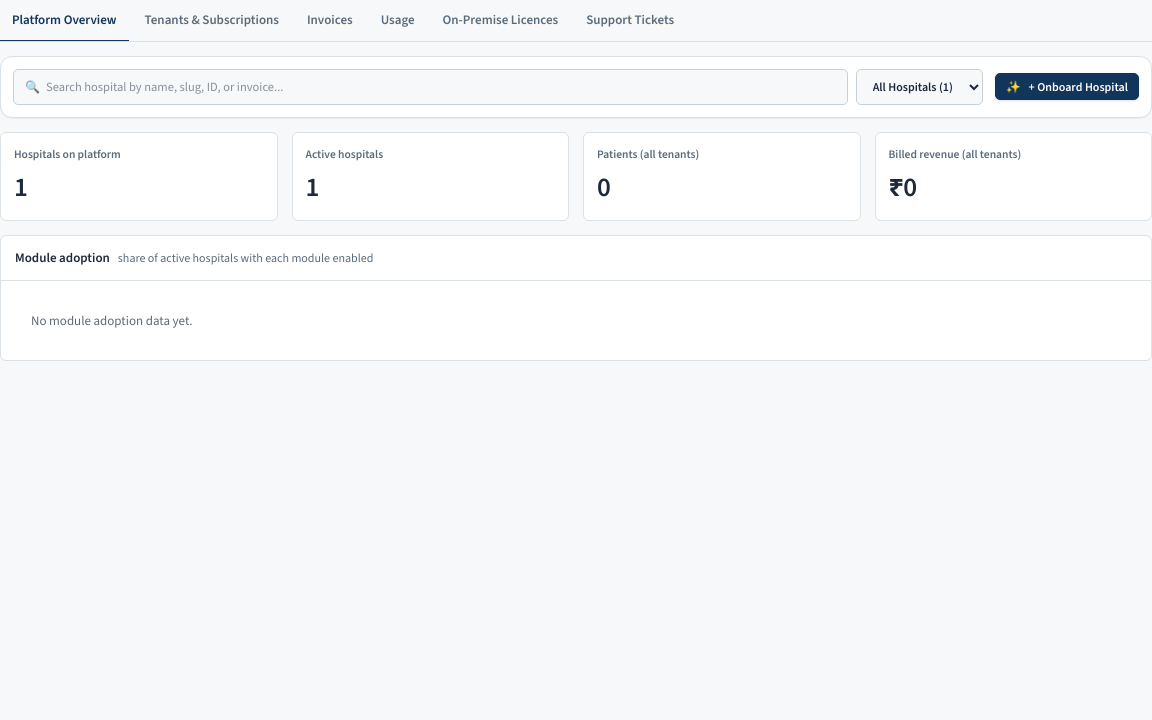
Test: SaaSConsolePage › opens tenant onboarding wizard modal on clicking '+ Onboard Hospital'
Click the button "✨ + Onboard Hospital": (1067, 86) [995,73,1139,100]
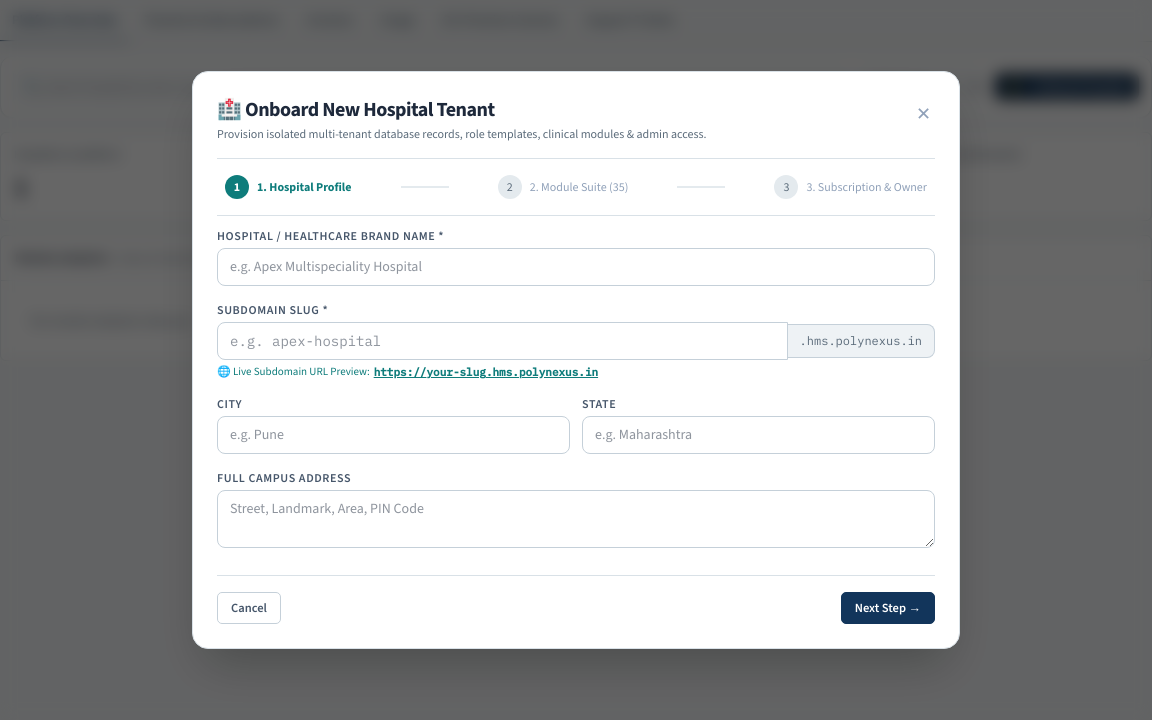
Expected: the text "🏥 Onboard New Hospital Tenant" is shown, [217,96,495,124]
Expected: the text "1. Hospital Profile" is shown, [257,179,352,195]
